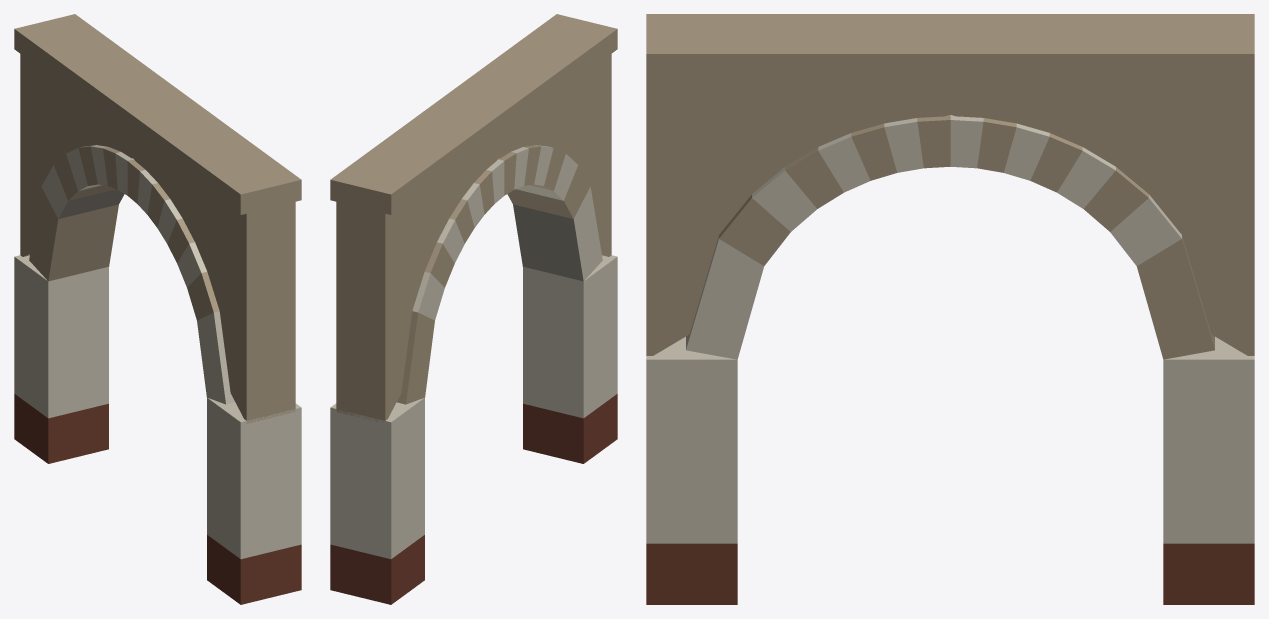
File: ArcadeBay__Round.fbx
3 views of the same model, side by side, from view 1: azimuth 30°, elevation 25°; view 2: azimuth 150°, elevation 25°; view 3: azimuth 270°, elevation 25° (orthographic). The views are drawn at different scales.
Visible parts, largest first — view 1: ArcadeBay__Round; view 2: ArcadeBay__Round; view 3: ArcadeBay__Round.
Boxes of the visible parts, x1,y1,x2,y2 form: ArcadeBay__Round: (14, 14, 301, 604); ArcadeBay__Round: (330, 14, 617, 604); ArcadeBay__Round: (646, 14, 1254, 604).
Bounding box in the file's own units: 62 × 400 × 400.
1 material, 1 textured.
